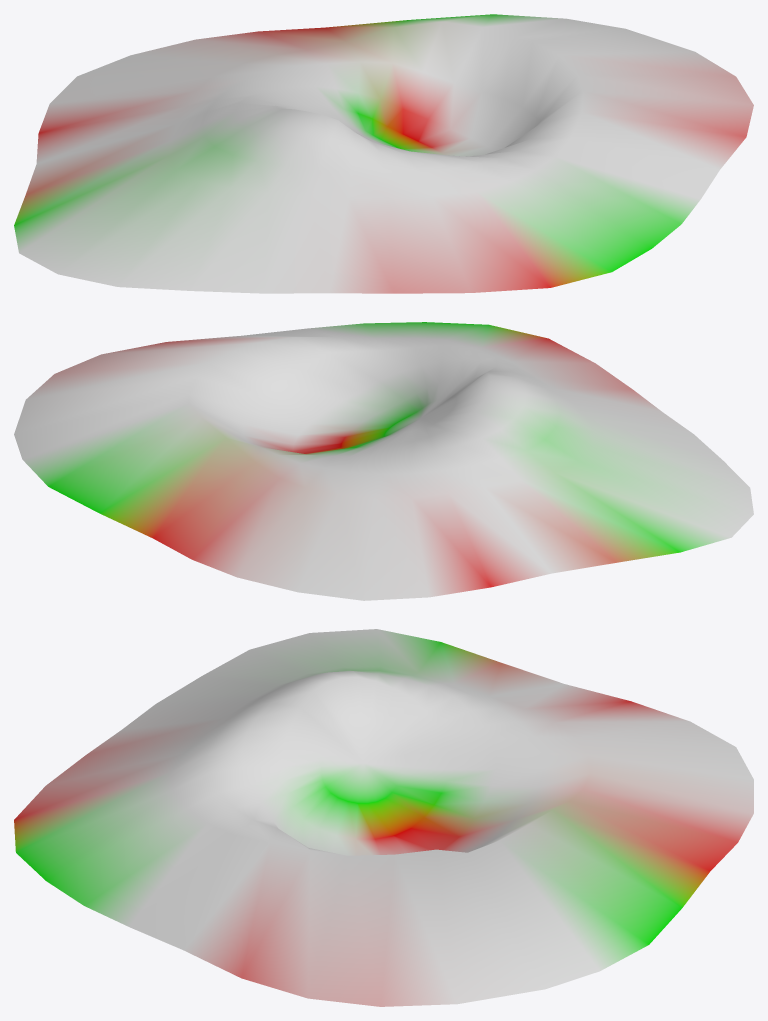
Rendered from Terrain_07.fbx.
3 views of the same model, one above another, from view 1: azimuth 30°, elevation 25°; view 2: azimuth 150°, elevation 25°; view 3: azimuth 270°, elevation 25° (orthographic). The views are drawn at different scales.
Visible parts, largest first — view 1: Sphere.008; view 2: Sphere.008; view 3: Sphere.008.
Boxes of the visible parts, x1,y1,x2,y2 form: Sphere.008: [14, 14, 753, 293]; Sphere.008: [14, 322, 753, 600]; Sphere.008: [14, 629, 753, 1006].
Size of the model in its own units: 65.58 by 7.61 by 54.26.
